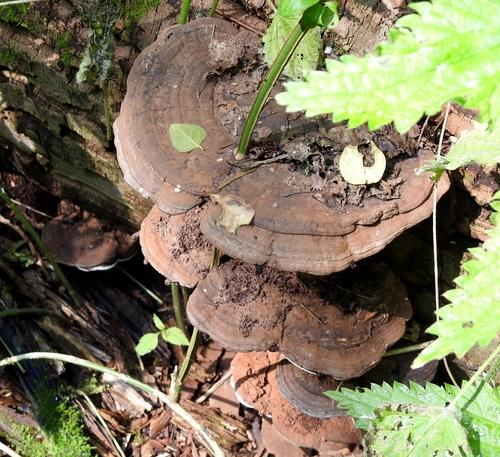Ganoderma - Fruit Body: (109, 10, 452, 204), (188, 294, 416, 383), (224, 387, 379, 457), (137, 206, 210, 289), (37, 211, 130, 275), (230, 349, 278, 415)
